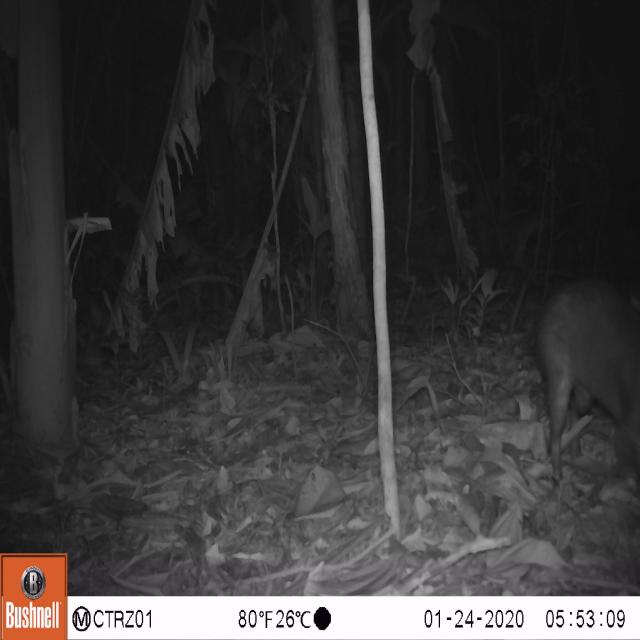Spotted Paca: (527, 266, 640, 484)
